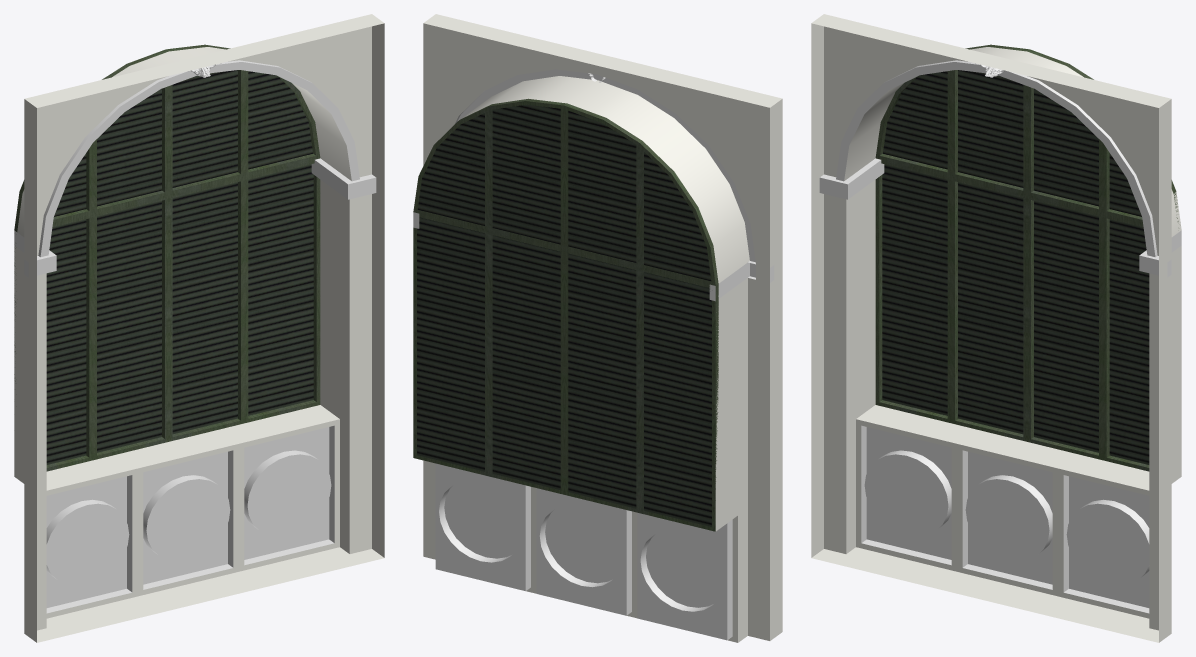
File: window_floor2_front6.glb
3 renders of one model, left to right at view 1: azimuth 30°, elevation 25°; view 2: azimuth 150°, elevation 25°; view 3: azimuth 330°, elevation 25°, orthographic.
Visible parts, largest first — view 1: 3DGeom-1, 3DGeom-10.001, 3DGeom-2, 3DGeom-10, 3DGeom-11.001, 3DGeom-11; view 2: 3DGeom-1, 3DGeom-10, 3DGeom-10.001, 3DGeom-2, 3DGeom-11, 3DGeom-11.001; view 3: 3DGeom-1, 3DGeom-10, 3DGeom-2, 3DGeom-10.001, 3DGeom-11, 3DGeom-11.001.
Boxes of the visible parts, x1,y1,x2,y2 form: 3DGeom-1: (14,14,384,642); 3DGeom-10.001: (172,70,313,434); 3DGeom-2: (14,60,376,613); 3DGeom-10: (46,88,161,464); 3DGeom-11.001: (166,44,320,441); 3DGeom-11: (14,49,168,471); 3DGeom-1: (423,14,782,642); 3DGeom-10: (568,110,711,527); 3DGeom-10.001: (417,104,560,490); 3DGeom-2: (413,69,774,640); 3DGeom-11: (564,103,718,531); 3DGeom-11.001: (413,98,566,494); 3DGeom-1: (811,14,1181,642); 3DGeom-10: (882,70,1023,434); 3DGeom-2: (819,60,1181,613); 3DGeom-10.001: (1034,88,1149,464); 3DGeom-11: (875,44,1029,441); 3DGeom-11.001: (1027,49,1178,471).
Size of the model in its own units: 2.05 by 3.02 by 0.46.
4 materials, 2 textured.
